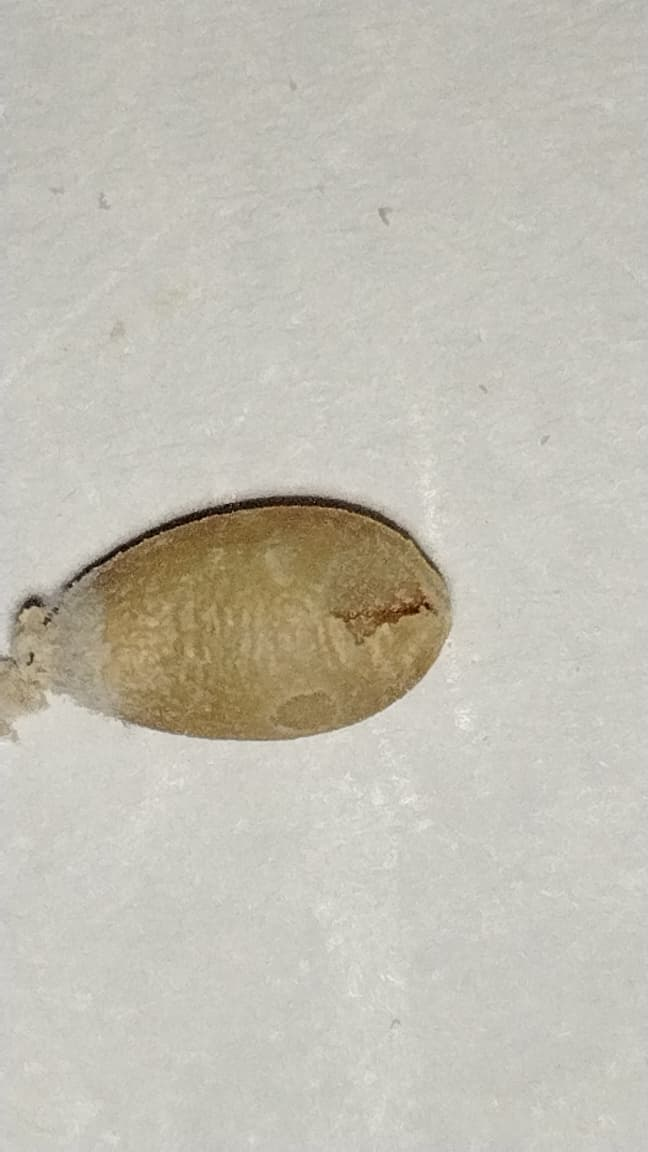damage: (0, 498, 450, 739)
molddamage: (0, 570, 119, 740), (319, 538, 450, 665), (237, 646, 367, 739)
